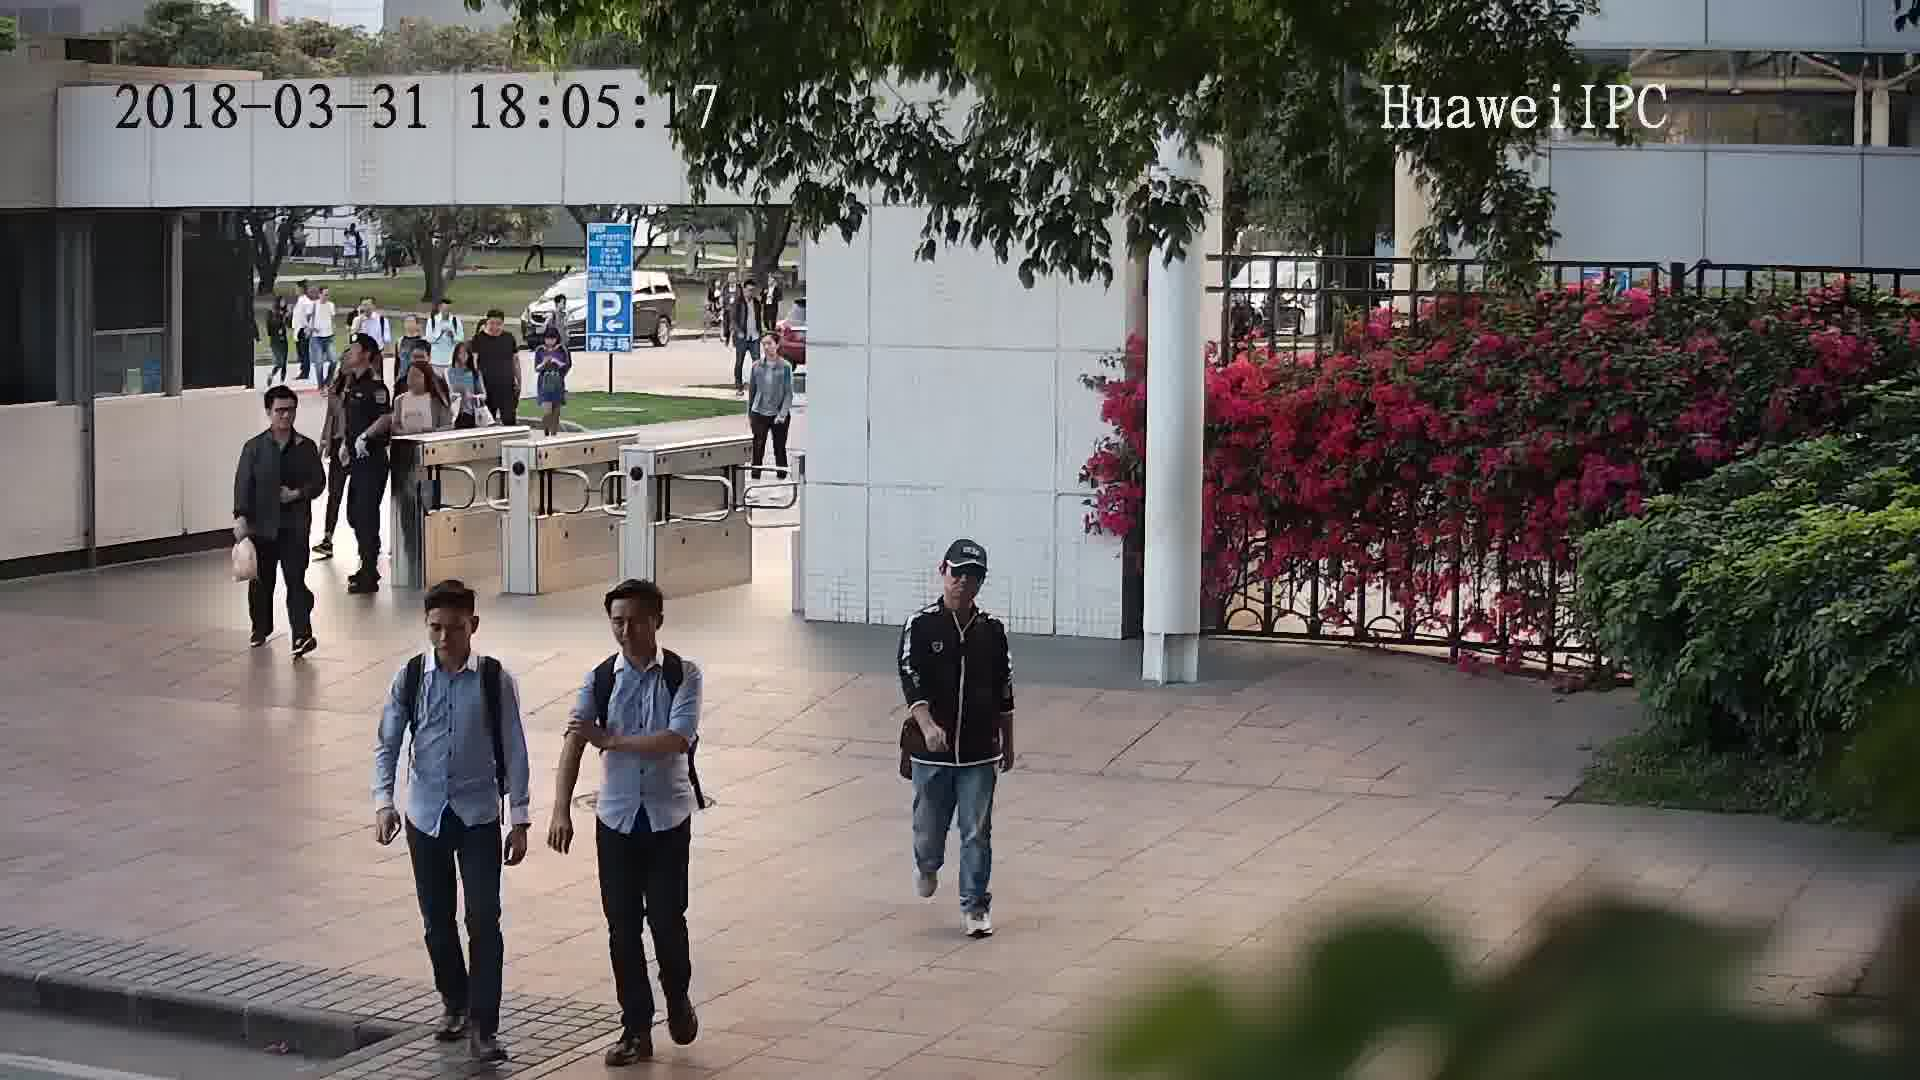face: (420, 605, 479, 664), (605, 596, 663, 654)
person: (394, 575, 515, 699), (584, 575, 701, 699), (905, 537, 1006, 645), (243, 383, 320, 463), (340, 335, 386, 395), (389, 361, 440, 410), (471, 305, 517, 349), (755, 331, 797, 380), (441, 338, 482, 380), (425, 298, 461, 335), (351, 296, 387, 332), (537, 327, 571, 362), (395, 314, 431, 347), (307, 278, 337, 312), (732, 278, 762, 312), (542, 293, 571, 328), (287, 277, 314, 309), (721, 271, 742, 298)
